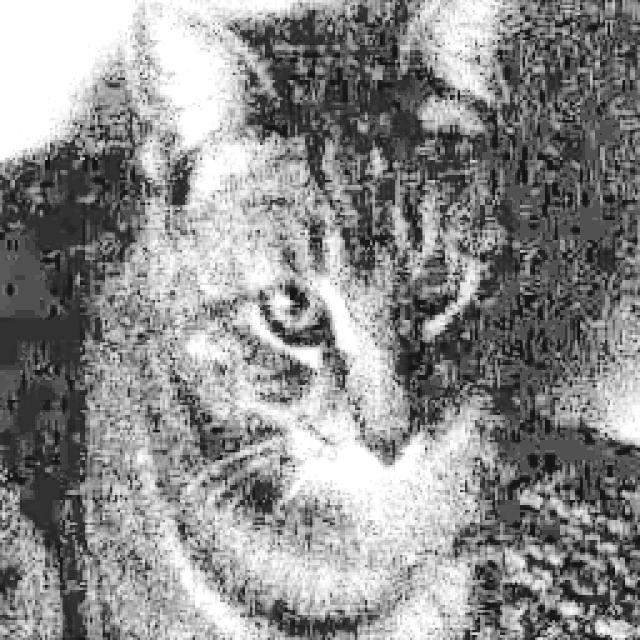cat: (112, 0, 603, 640)
